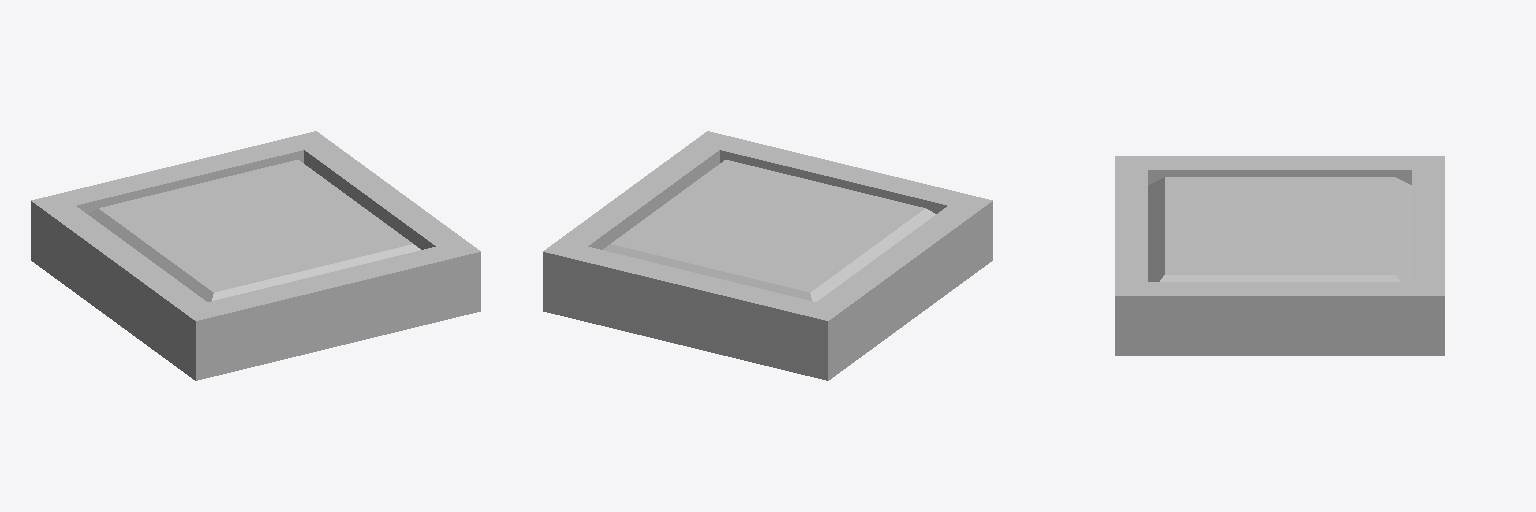
File: prop_floor_switch.obj
The picture shows the model from 3 angles: view 1: azimuth 30°, elevation 25°; view 2: azimuth 150°, elevation 25°; view 3: azimuth 270°, elevation 25°; orthographic projection.
Visible parts, largest first — view 1: prop_floor_switch, prop_floor_switch_2; view 2: prop_floor_switch, prop_floor_switch_2; view 3: prop_floor_switch, prop_floor_switch_2.
Part boxes in pixels (left/top/right/bottom): prop_floor_switch: left=31, top=131, right=480, bottom=380; prop_floor_switch_2: left=88, top=160, right=420, bottom=301; prop_floor_switch: left=543, top=131, right=992, bottom=380; prop_floor_switch_2: left=603, top=160, right=935, bottom=301; prop_floor_switch: left=1115, top=156, right=1444, bottom=355; prop_floor_switch_2: left=1148, top=177, right=1411, bottom=281.
Bounding box in the file's own units: 1 × 0.2 × 1.